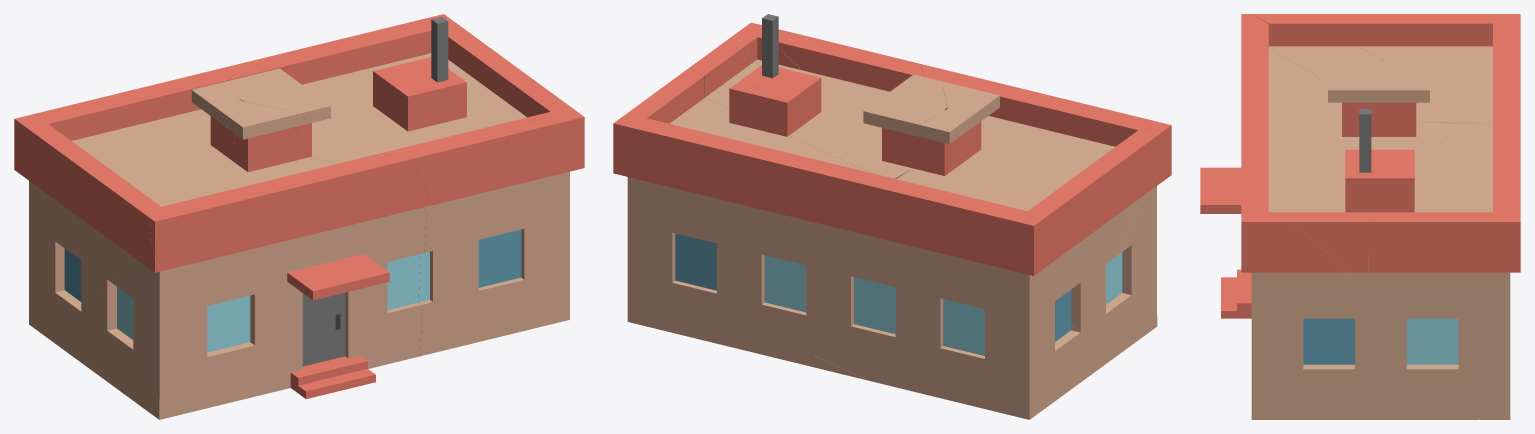
The model's file is House 2.1 Fractured.fbx.
The picture shows the model from 3 angles, left to right: view 1: azimuth 30°, elevation 25°; view 2: azimuth 150°, elevation 25°; view 3: azimuth 270°, elevation 25°; orthographic projection. The views are drawn at different scales.
Parts seen in each view (by area): view 1: House_Type2_1_Breaking_cell.001, House_Type2_1_Breaking_cell.004, House_Type2_1_Breaking_cell.005, House_Type2_1_Breaking_cell.003, House_Type2_1_Breaking_cell, House_Type2_1_Breaking_cell.002; view 2: House_Type2_1_Breaking_cell.004, House_Type2_1_Breaking_cell.002, House_Type2_1_Breaking_cell.003, House_Type2_1_Breaking_cell.001, House_Type2_1_Breaking_cell, House_Type2_1_Breaking_cell.005; view 3: House_Type2_1_Breaking_cell.002, House_Type2_1_Breaking_cell.005, House_Type2_1_Breaking_cell.003, House_Type2_1_Breaking_cell.004, House_Type2_1_Breaking_cell.001.
Boxes of the visible parts, bbox=[...] form: House_Type2_1_Breaking_cell.001: bbox=[150, 101, 432, 399]; House_Type2_1_Breaking_cell.004: bbox=[14, 77, 241, 338]; House_Type2_1_Breaking_cell.005: bbox=[418, 98, 584, 356]; House_Type2_1_Breaking_cell.003: bbox=[221, 17, 558, 213]; House_Type2_1_Breaking_cell: bbox=[49, 239, 243, 419]; House_Type2_1_Breaking_cell.002: bbox=[186, 14, 520, 111]; House_Type2_1_Breaking_cell.004: bbox=[815, 107, 1167, 419]; House_Type2_1_Breaking_cell.002: bbox=[613, 68, 877, 366]; House_Type2_1_Breaking_cell.003: bbox=[689, 14, 946, 178]; House_Type2_1_Breaking_cell.001: bbox=[921, 64, 1171, 160]; House_Type2_1_Breaking_cell: bbox=[810, 148, 1171, 405]; House_Type2_1_Breaking_cell.005: bbox=[727, 22, 817, 71]; House_Type2_1_Breaking_cell.002: bbox=[1368, 97, 1520, 419]; House_Type2_1_Breaking_cell.005: bbox=[1241, 189, 1478, 419]; House_Type2_1_Breaking_cell.003: bbox=[1241, 60, 1455, 292]; House_Type2_1_Breaking_cell.004: bbox=[1252, 14, 1520, 123]; House_Type2_1_Breaking_cell.001: bbox=[1200, 14, 1382, 318].
Size of the model in its own units: 879 by 538 by 572.
